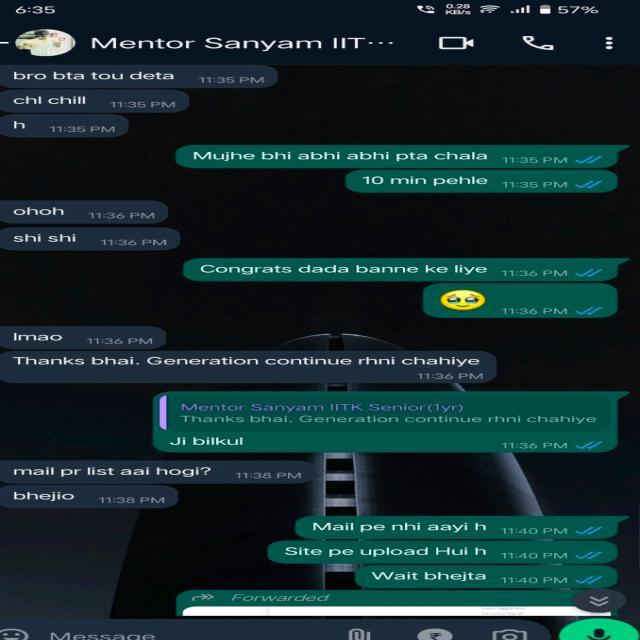scam: (0, 352, 499, 387), (1, 459, 324, 486), (0, 63, 276, 90), (0, 200, 170, 227), (0, 228, 176, 253), (2, 91, 192, 114), (0, 488, 182, 512), (0, 326, 168, 348), (0, 115, 133, 138)
